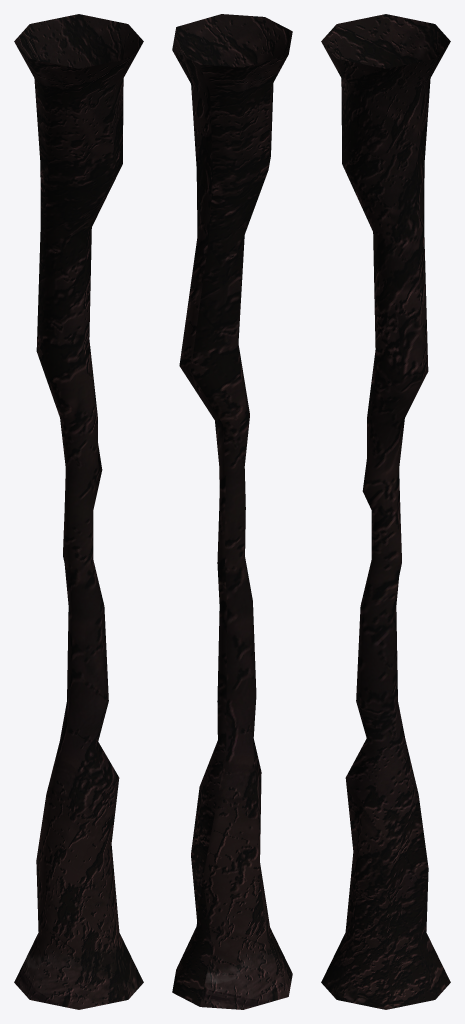
File: naturalcolumn.fbx
3 renders of one model, left to right at view 1: azimuth 90°, elevation 25°; view 2: azimuth 150°, elevation 25°; view 3: azimuth 270°, elevation 25°, orthographic.
Visible parts, largest first — view 1: divider; view 2: divider; view 3: divider.
Boxes of the visible parts, left/top/right/bottom form: divider: left=14, top=14, right=143, bottom=1009; divider: left=172, top=14, right=292, bottom=1009; divider: left=321, top=14, right=450, bottom=1009.
Bounding box in the file's own units: 1 × 8 × 1.
